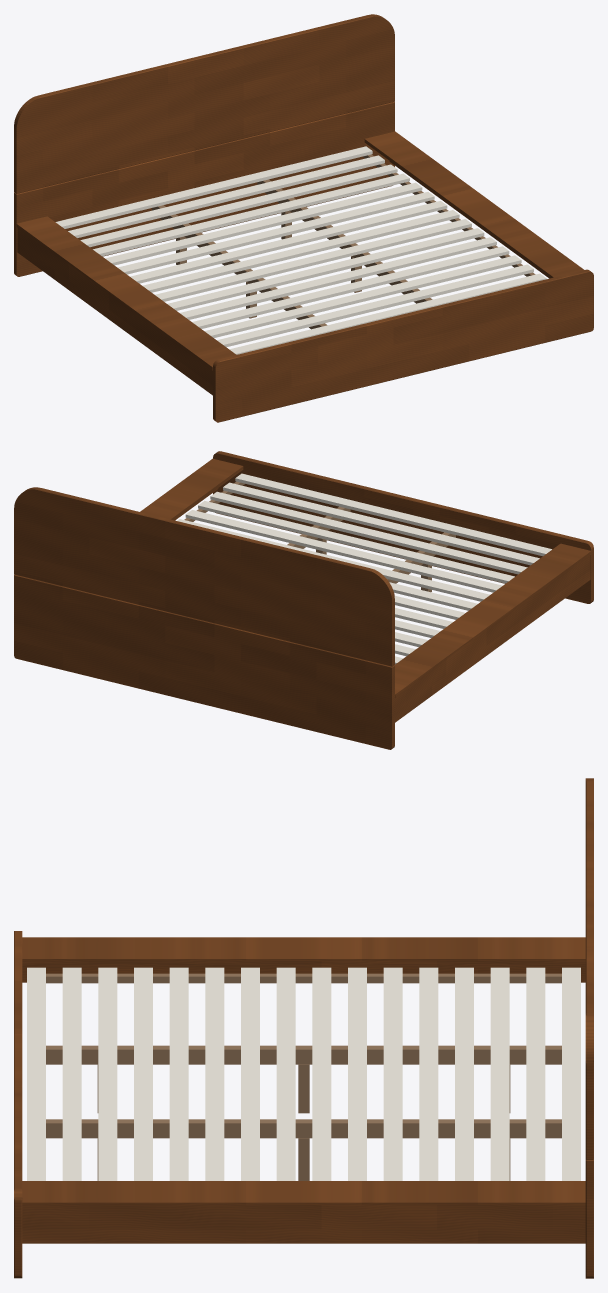
The picture shows the model from 3 angles, top to bottom: view 1: azimuth 30°, elevation 25°; view 2: azimuth 150°, elevation 25°; view 3: azimuth 270°, elevation 25°; orthographic projection. The views are drawn at different scales.
Parts seen in each view (by area): view 1: Headboard rounded upper panel, Rounded floor standing footboard, Headboard lower panel, Broad side ledge -1, Broad side ledge 1, Side rail -1, Wooden mattress slat 03, Wooden mattress slat 12, Wooden mattress slat 07, Wooden mattress slat 08, Wooden mattress slat 11, Wooden mattress slat 13 (+12 smaller); view 2: Headboard rounded upper panel, Headboard lower panel, Rounded floor standing footboard, Broad side ledge -1, Side rail -1, Wooden mattress slat 14, Wooden mattress slat 12, Wooden mattress slat 15, Wooden mattress slat 16, Wooden mattress slat 13, Broad side ledge 1, Wooden mattress slat 11 (+5 smaller); view 3: Side rail 1, Broad side ledge -1, Broad side ledge 1, Side rail -1, Longitudinal support beam 0, Longitudinal support beam 1, Wooden mattress slat 02, Wooden mattress slat 03, Wooden mattress slat 05, Wooden mattress slat 06, Wooden mattress slat 08, Wooden mattress slat 09 (+14 smaller).
Boxes of the visible parts, x1,y1,x2,y2 form: Headboard rounded upper panel: [14, 14, 394, 193]; Rounded floor standing footboard: [213, 269, 593, 422]; Headboard lower panel: [14, 102, 394, 276]; Broad side ledge -1: [16, 216, 236, 370]; Broad side ledge 1: [364, 131, 583, 278]; Side rail -1: [17, 222, 212, 395]; Wooden mattress slat 03: [80, 164, 397, 247]; Wooden mattress slat 12: [192, 246, 509, 328]; Wooden mattress slat 07: [130, 201, 447, 283]; Wooden mattress slat 08: [142, 210, 459, 292]; Wooden mattress slat 11: [180, 237, 496, 319]; Wooden mattress slat 13: [204, 255, 521, 337]; Headboard rounded upper panel: [14, 487, 394, 666]; Headboard lower panel: [14, 574, 394, 749]; Rounded floor standing footboard: [213, 451, 593, 603]; Broad side ledge -1: [395, 543, 591, 697]; Side rail -1: [395, 549, 590, 722]; Wooden mattress slat 14: [210, 491, 527, 574]; Wooden mattress slat 12: [185, 510, 502, 592]; Wooden mattress slat 15: [223, 482, 539, 565]; Wooden mattress slat 16: [235, 473, 551, 556]; Wooden mattress slat 13: [198, 500, 514, 583]; Broad side ledge 1: [140, 458, 243, 520]; Wooden mattress slat 11: [177, 519, 489, 601]; Side rail 1: [22, 1198, 585, 1243]; Broad side ledge -1: [22, 937, 585, 963]; Broad side ledge 1: [22, 1181, 585, 1207]; Side rail -1: [22, 937, 585, 982]; Longitudinal support beam 0: [46, 1045, 561, 1064]; Longitudinal support beam 1: [46, 1119, 561, 1138]; Wooden mattress slat 02: [526, 967, 545, 1180]; Wooden mattress slat 03: [490, 967, 509, 1180]; Wooden mattress slat 05: [419, 967, 438, 1180]; Wooden mattress slat 06: [383, 967, 402, 1180]; Wooden mattress slat 08: [312, 967, 331, 1180]; Wooden mattress slat 09: [276, 967, 295, 1180].
Size of the model in its own units: 2.31 by 1.02 by 2.13.
3 materials, 1 textured.
